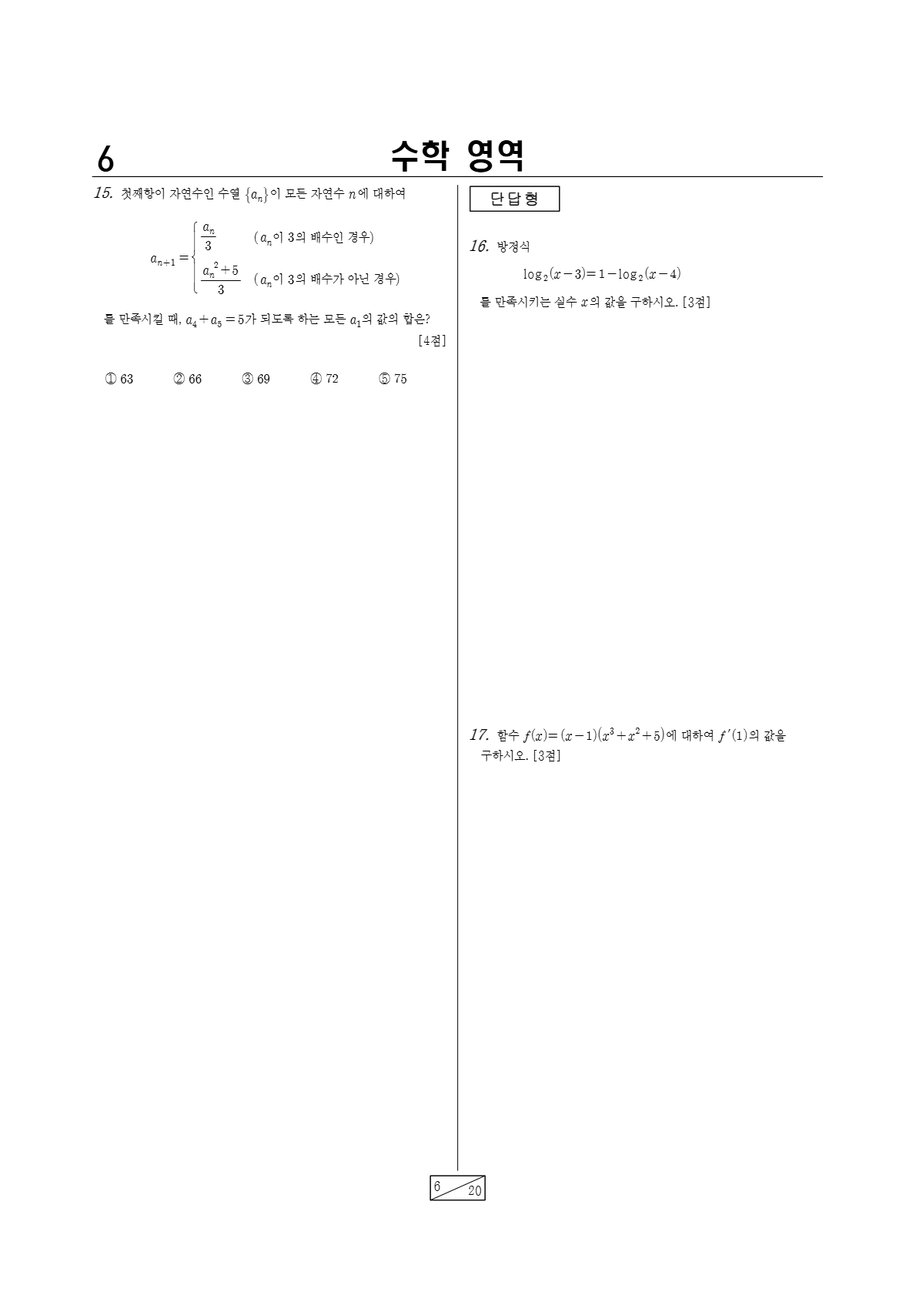opt_1: (102, 370, 117, 386)
opt_2: (172, 371, 185, 385)
opt_3: (242, 370, 253, 385)
opt_4: (309, 371, 322, 384)
opt_5: (378, 371, 389, 385)
